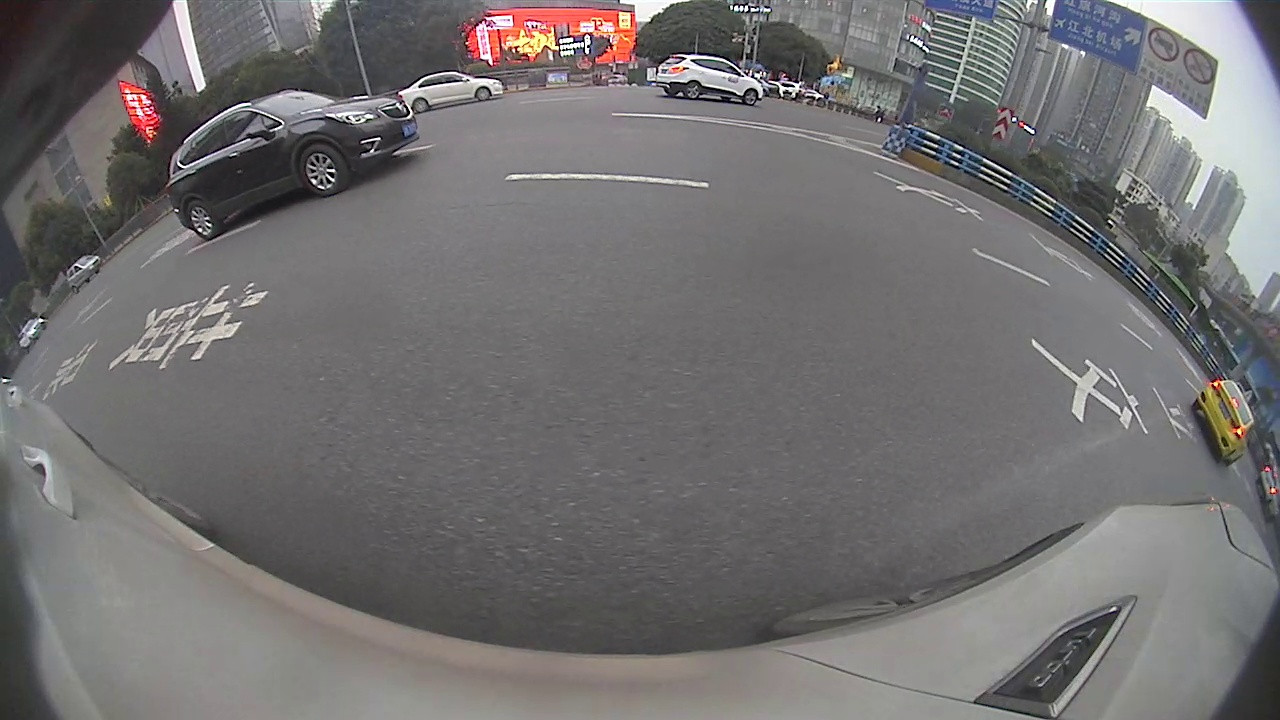car: (163, 88, 422, 243), (655, 52, 766, 108), (1193, 380, 1256, 468), (393, 71, 504, 114)
front: (297, 143, 347, 197), (743, 86, 759, 108), (472, 86, 492, 103)
rear: (184, 197, 219, 239), (683, 79, 701, 101), (410, 98, 427, 114)
